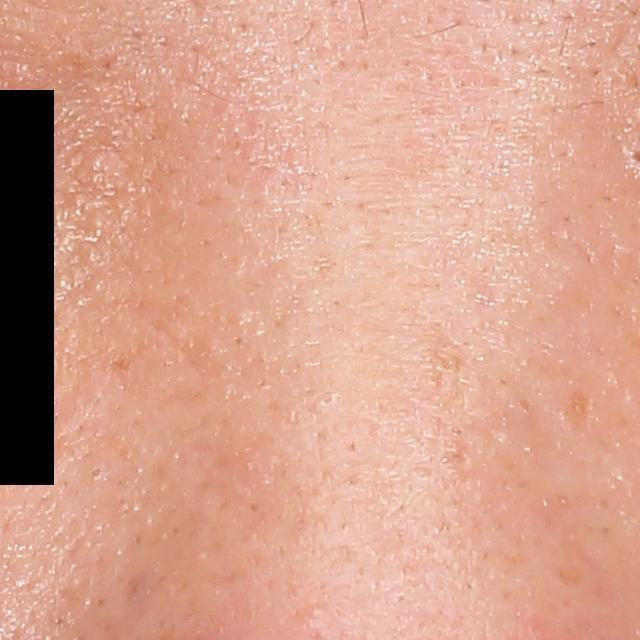melasma: (565, 382, 595, 424)
